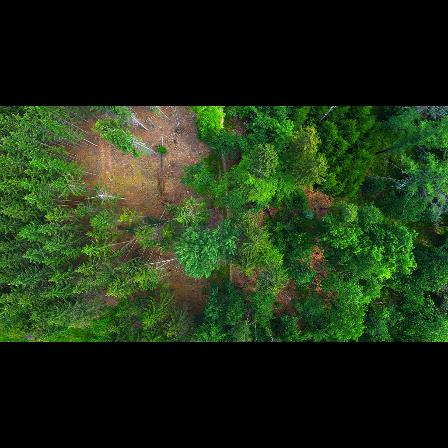Sick: (90, 185, 116, 205)
